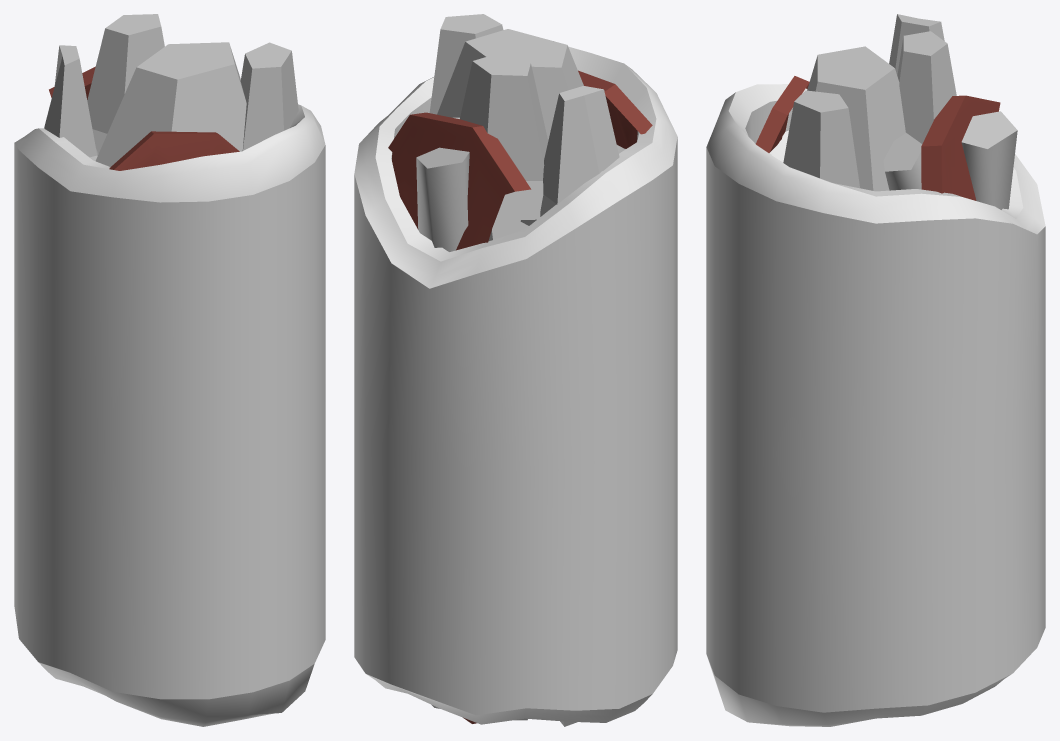
File: Shawarma.fbx
The picture shows the model from 3 angles, left to right: view 1: azimuth 30°, elevation 25°; view 2: azimuth 150°, elevation 25°; view 3: azimuth 270°, elevation 25°; orthographic projection. The views are drawn at different scales.
Parts seen in each view (by area): view 1: pCylinder54; view 2: pCylinder54; view 3: pCylinder54.
Part boxes in pixels (<box>): pCylinder54: <box>14,14,325,726</box>; pCylinder54: <box>354,14,677,726</box>; pCylinder54: <box>706,14,1045,726</box>.
Size of the model in its own units: 39.57 by 91.03 by 43.27.
